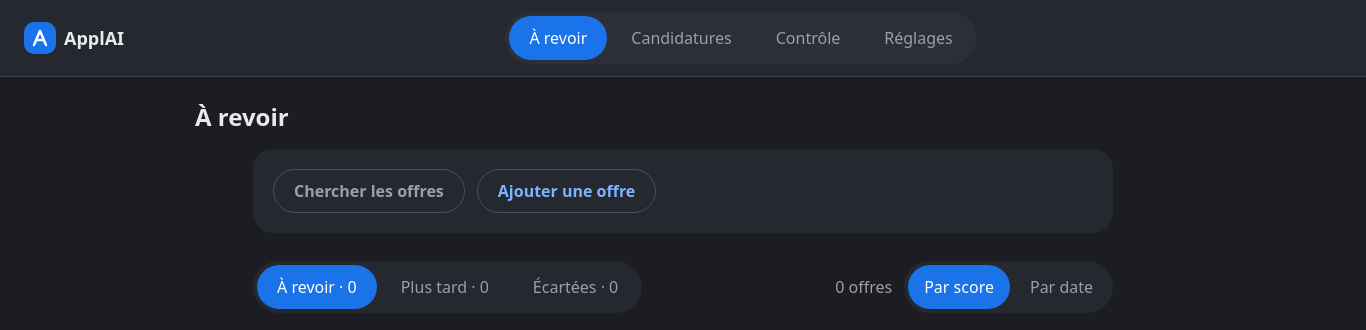
Test: the shell › opens the page of the pill it is on
The width and height of the screenshot is (1366, 330).
Click the button "Candidatures" at [682, 38], box [611,16,752,60]
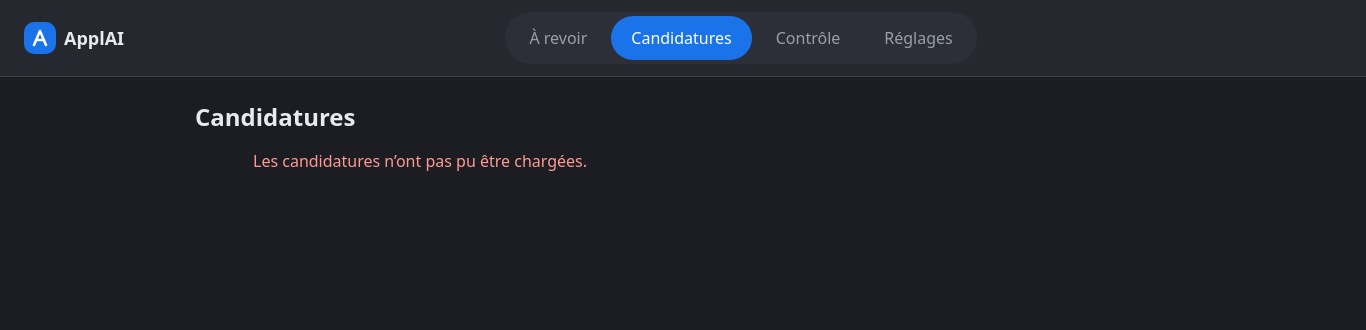
Check: the heading reads "Candidatures", box [195,100,356,133]
